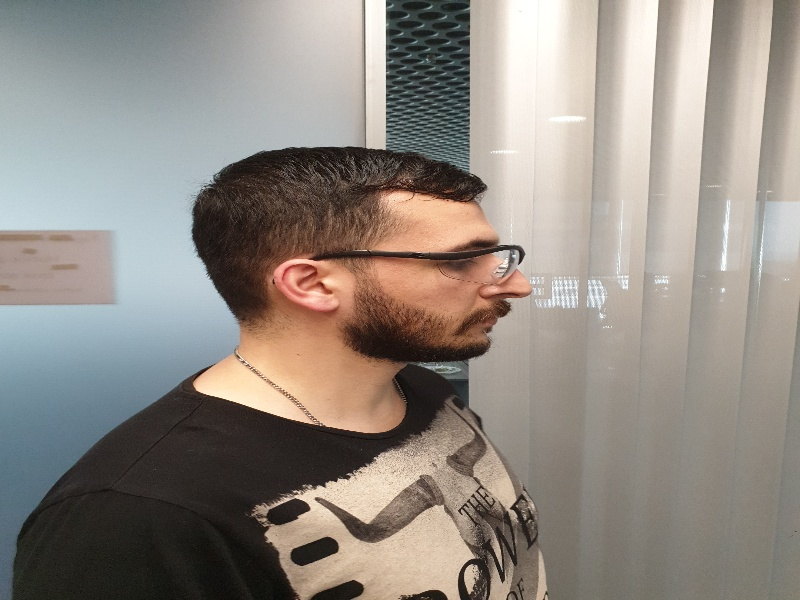Gozluk: (310, 243, 529, 285)
